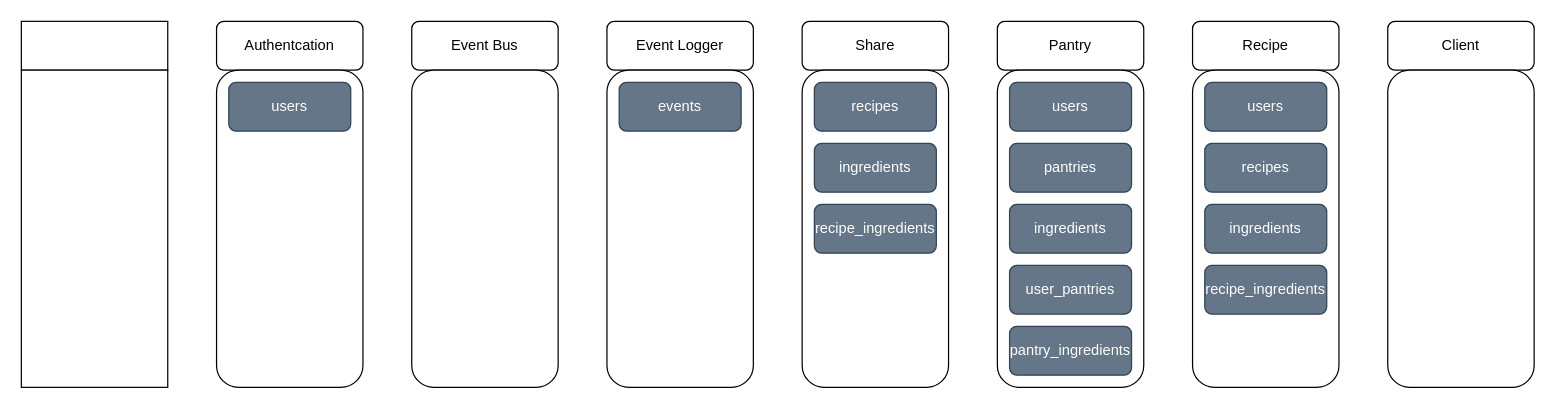
The diagram is 1556 pixels wide and 409 high, and some of its shapes have lost their labels. The shapes that lost their labels are listed below. From the top down, each one's box as (x1, y1, x2, y2) in pixels, then its label:
(20, 20, 168, 70): Service
(20, 69, 168, 387): Databases w/ required tables
